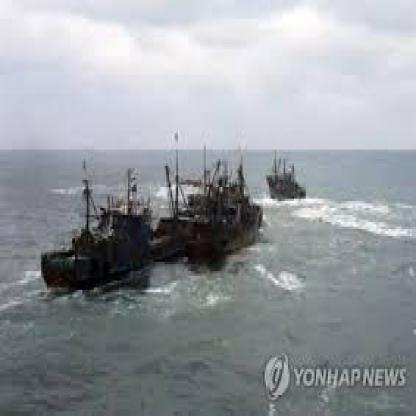Ship: (41, 153, 168, 305), (164, 137, 274, 275), (258, 146, 316, 214)
